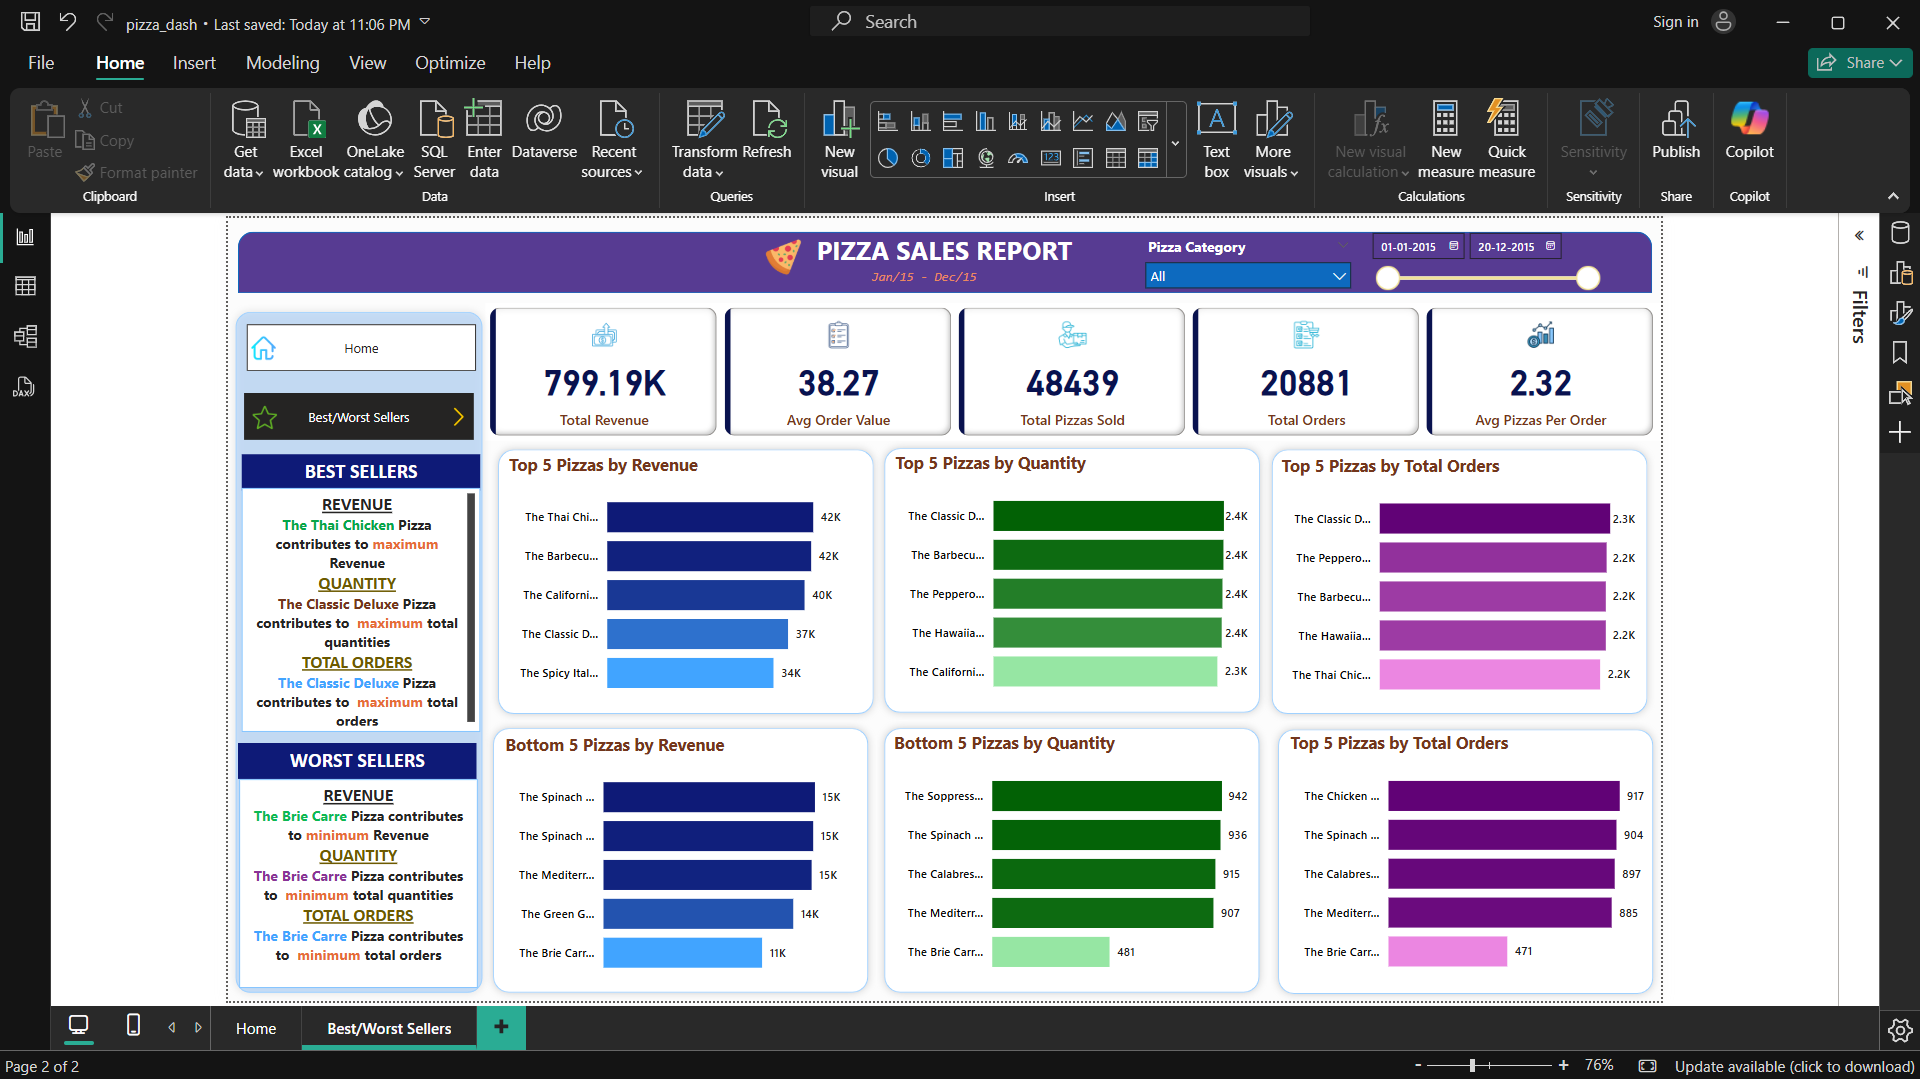

What the dashboard file says about the page in this screenshot:
{"tool":"powerbi","page":{"name":"Best/Worst Sellers","canvas":[1500,820],"ordinal":1},"visuals":[{"type":"cardVisual","fields":{"Data":["pizza_sales.Total Revenue","pizza_sales.Avg Order Value","pizza_sales.Total Pizzas Sold","pizza_sales.Total Orders","pizza_sales.Avg Pizzas Per Order"]},"box":[270,88.6,1230,144.3],"z":0},{"type":"shape","box":[10,14.3,1480,64.3],"z":1000},{"type":"textbox","box":[605.7,10,288.6,51.4],"z":2000},{"type":"textbox","box":[668.5,47.1,141.3,28.8],"z":3000},{"type":"image","box":[557.1,10,48.6,61.4],"z":4000},{"type":"shape","box":[274.3,234.3,409,293],"z":5000},{"type":"shape","box":[0,90,274.3,728.6],"z":6000},{"type":"textbox","box":[14.4,247.3,249.9,37.9],"z":7000},{"type":"textbox","box":[14.4,282.6,249.9,255.1],"z":8000},{"type":"textbox","box":[10.5,549.5,249.9,37.9],"z":9000},{"type":"textbox","box":[11.8,587.4,249.9,218.5],"z":10000},{"type":"slicer","fields":{"Values":["pizza_sales.pizza_category"]},"box":[950,14.3,235.7,60],"z":11000},{"type":"slicer","fields":{"Values":["pizza_sales.order_date"]},"box":[1185.3,5.2,265.6,83.7],"z":12000},{"type":"shape","box":[678.6,232.9,409,293],"z":13000},{"type":"shape","box":[1084.3,234.3,409,293],"z":14000},{"type":"shape","box":[270,525.7,408.6,292.9],"z":15000},{"type":"shape","box":[678.6,525.7,408.6,292.9],"z":16000},{"type":"shape","box":[1091.4,527.1,408.6,292.9],"z":17000},{"type":"barChart","title":"Top 5 Pizzas by Revenue","fields":{"Category":["pizza_sales.pizza_name"],"Y":["pizza_sales.Total Revenue"]},"box":[288.6,245.7,380,268.6],"z":18000},{"type":"barChart","title":"Bottom 5 Pizzas by Revenue","fields":{"Category":["pizza_sales.pizza_name"],"Y":["pizza_sales.Total Revenue"]},"box":[285.1,539.3,379.2,268.3],"z":19000},{"type":"barChart","title":"Top 5 Pizzas by Quantity","fields":{"Category":["pizza_sales.pizza_name"],"Y":["pizza_sales.Total Pizzas Sold"]},"box":[693.8,244.4,379.2,268.3],"z":20000},{"type":"barChart","title":"Bottom 5 Pizzas by Quantity","fields":{"Category":["pizza_sales.pizza_name"],"Y":["pizza_sales.Total Pizzas Sold"]},"box":[691.5,537.7,380.4,268.8],"z":21000},{"type":"barChart","title":"Top 5 Pizzas by Total Orders","fields":{"Category":["pizza_sales.pizza_name"],"Y":["pizza_sales.Total Orders"]},"box":[1097.3,246.8,380.4,268.8],"z":22000},{"type":"barChart","title":"Top 5 Pizzas by Total Orders","fields":{"Category":["pizza_sales.pizza_name"],"Y":["pizza_sales.Total Orders"]},"box":[1106.7,537.9,380.6,268.3],"z":23000},{"type":"pageNavigator","box":[17,183.2,240.7,49.7],"z":24000},{"type":"pageNavigator","box":[19.6,111.2,240.7,49.7],"z":25000},{"type":"image","box":[222.4,193.6,37.9,28.8],"z":25001},{"type":"image","box":[19.6,117.7,35.3,36.6],"z":25002},{"type":"image","box":[20.9,187.1,35.3,43.2],"z":25003}]}

Visuals, with their boxes on the page's 1500x820 design canvas (x1, y1, x2, y2). These are canvas units, not pixel positions in the 1920x1079 screenshot, which may show the page scaled, cropped or inside an application window:
cardVisual - pizza_sales.Total Revenue x pizza_sales.Avg Order Value: {"x1": 270, "y1": 89, "x2": 1500, "y2": 233}
shape: {"x1": 10, "y1": 14, "x2": 1490, "y2": 79}
textbox: {"x1": 606, "y1": 10, "x2": 894, "y2": 61}
textbox: {"x1": 668, "y1": 47, "x2": 810, "y2": 76}
image: {"x1": 557, "y1": 10, "x2": 606, "y2": 71}
shape: {"x1": 274, "y1": 234, "x2": 683, "y2": 527}
shape: {"x1": 0, "y1": 90, "x2": 274, "y2": 819}
textbox: {"x1": 14, "y1": 247, "x2": 264, "y2": 285}
textbox: {"x1": 14, "y1": 283, "x2": 264, "y2": 538}
textbox: {"x1": 10, "y1": 550, "x2": 260, "y2": 587}
textbox: {"x1": 12, "y1": 587, "x2": 262, "y2": 806}
slicer - pizza_sales.pizza_category: {"x1": 950, "y1": 14, "x2": 1186, "y2": 74}
slicer - pizza_sales.order_date: {"x1": 1185, "y1": 5, "x2": 1451, "y2": 89}
shape: {"x1": 679, "y1": 233, "x2": 1088, "y2": 526}
shape: {"x1": 1084, "y1": 234, "x2": 1493, "y2": 527}
shape: {"x1": 270, "y1": 526, "x2": 679, "y2": 819}
shape: {"x1": 679, "y1": 526, "x2": 1087, "y2": 819}
shape: {"x1": 1091, "y1": 527, "x2": 1500, "y2": 820}
"Top 5 Pizzas by Revenue" barChart: {"x1": 289, "y1": 246, "x2": 669, "y2": 514}
"Bottom 5 Pizzas by Revenue" barChart: {"x1": 285, "y1": 539, "x2": 664, "y2": 808}
"Top 5 Pizzas by Quantity" barChart: {"x1": 694, "y1": 244, "x2": 1073, "y2": 513}
"Bottom 5 Pizzas by Quantity" barChart: {"x1": 692, "y1": 538, "x2": 1072, "y2": 806}
"Top 5 Pizzas by Total Orders" barChart: {"x1": 1097, "y1": 247, "x2": 1478, "y2": 516}
"Top 5 Pizzas by Total Orders" barChart: {"x1": 1107, "y1": 538, "x2": 1487, "y2": 806}
pageNavigator: {"x1": 17, "y1": 183, "x2": 258, "y2": 233}
pageNavigator: {"x1": 20, "y1": 111, "x2": 260, "y2": 161}
image: {"x1": 222, "y1": 194, "x2": 260, "y2": 222}
image: {"x1": 20, "y1": 118, "x2": 55, "y2": 154}
image: {"x1": 21, "y1": 187, "x2": 56, "y2": 230}
